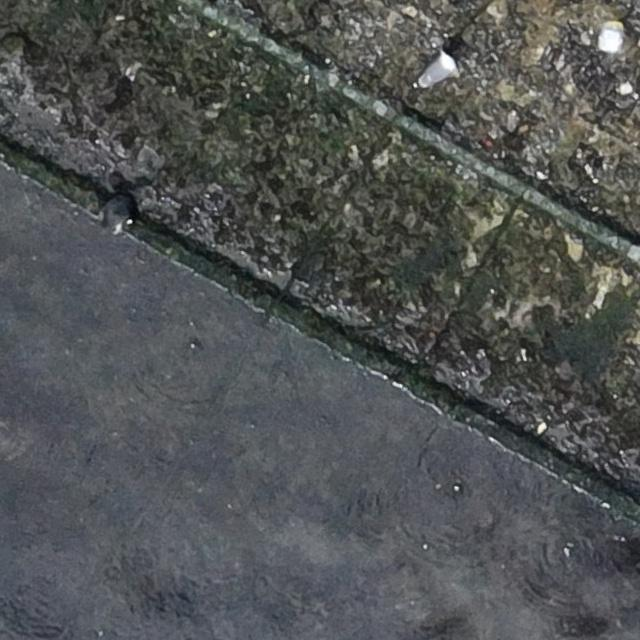umineko: (420, 54, 456, 84)
